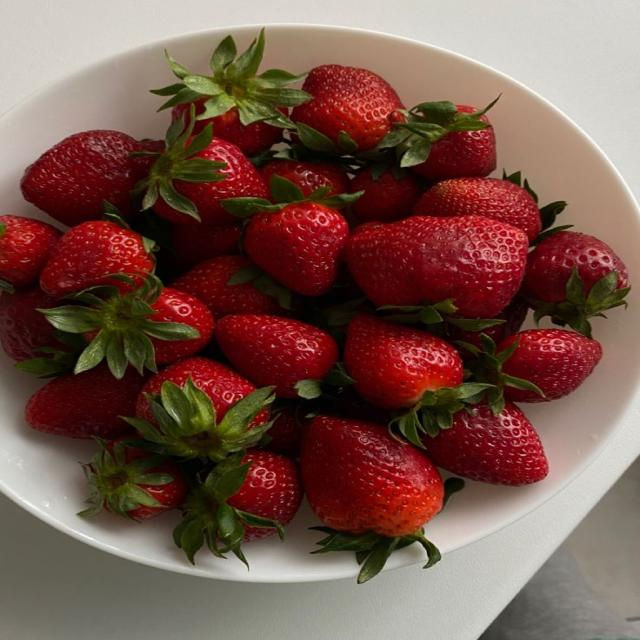strawberry: (300, 415, 443, 581), (153, 29, 310, 155), (344, 314, 491, 446), (344, 216, 528, 318), (43, 275, 214, 377), (224, 176, 359, 296), (127, 357, 274, 461), (174, 450, 302, 563), (137, 118, 268, 225), (21, 130, 157, 226), (521, 231, 628, 337), (344, 314, 463, 409), (423, 402, 548, 486), (216, 315, 338, 397), (378, 99, 497, 182), (291, 65, 403, 151), (79, 439, 188, 521), (26, 365, 144, 439), (40, 221, 154, 296), (414, 177, 541, 242), (497, 329, 602, 402), (172, 256, 291, 319), (172, 97, 283, 155), (227, 449, 303, 525), (412, 113, 496, 181), (0, 215, 61, 292), (446, 296, 528, 347), (0, 288, 57, 360), (350, 168, 423, 222), (168, 224, 241, 270), (260, 160, 349, 197), (263, 406, 308, 457)
